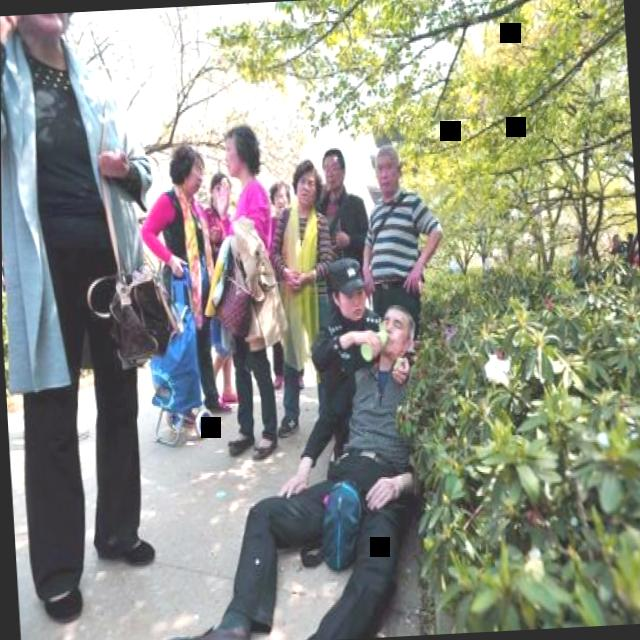Fall-Detected: (88, 260, 446, 640)
